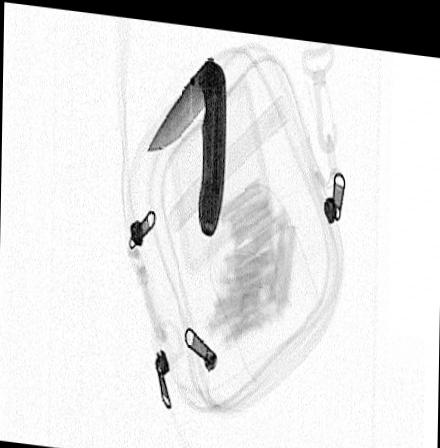Knife: (144, 48, 229, 235)
